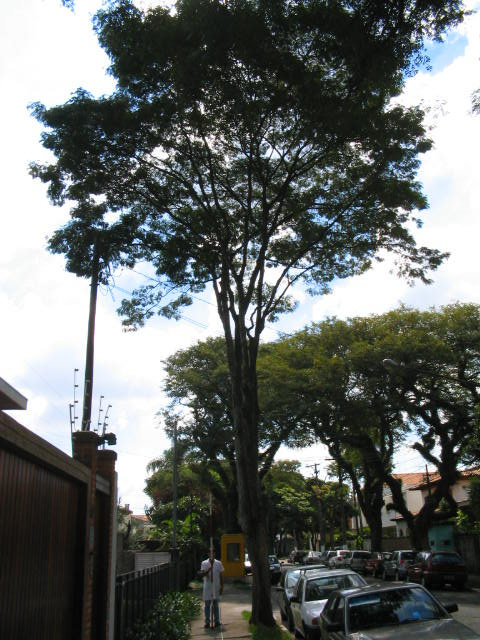crown: (25, 84, 452, 334)
stem: (224, 407, 287, 625)
stick: (202, 492, 219, 630)
tree: (22, 83, 453, 625)
